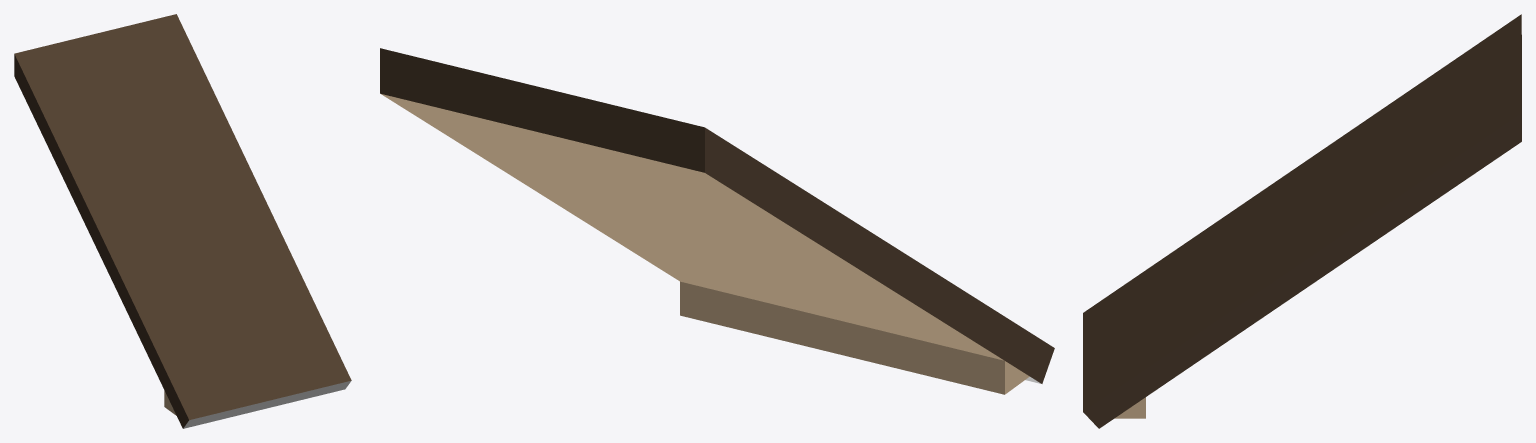
File: house-roof.glb
3 views of the same model, side by side, from view 1: azimuth 30°, elevation 25°; view 2: azimuth 150°, elevation 25°; view 3: azimuth 270°, elevation 25° (orthographic). The views are drawn at different scales.
Visible parts, largest first — view 1: house-roof; view 2: house-roof; view 3: house-roof.
Boxes of the visible parts, bbox=[...] form: house-roof: bbox=[14, 14, 351, 428]; house-roof: bbox=[380, 48, 1054, 394]; house-roof: bbox=[1083, 14, 1521, 428].
Bounding box in the file's own units: 3 × 4.45 × 5.6.
Materials: 1 (1 with a texture image).
